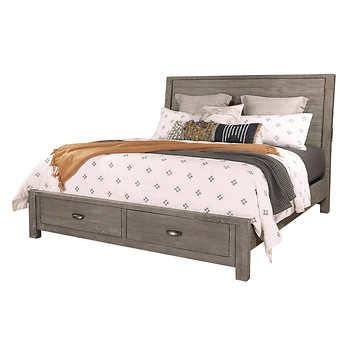bed: (9, 70, 344, 283)
